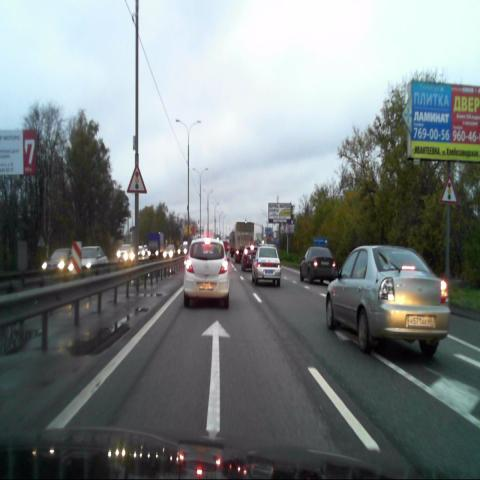1_8: (128, 166, 146, 194), (441, 175, 457, 203)
